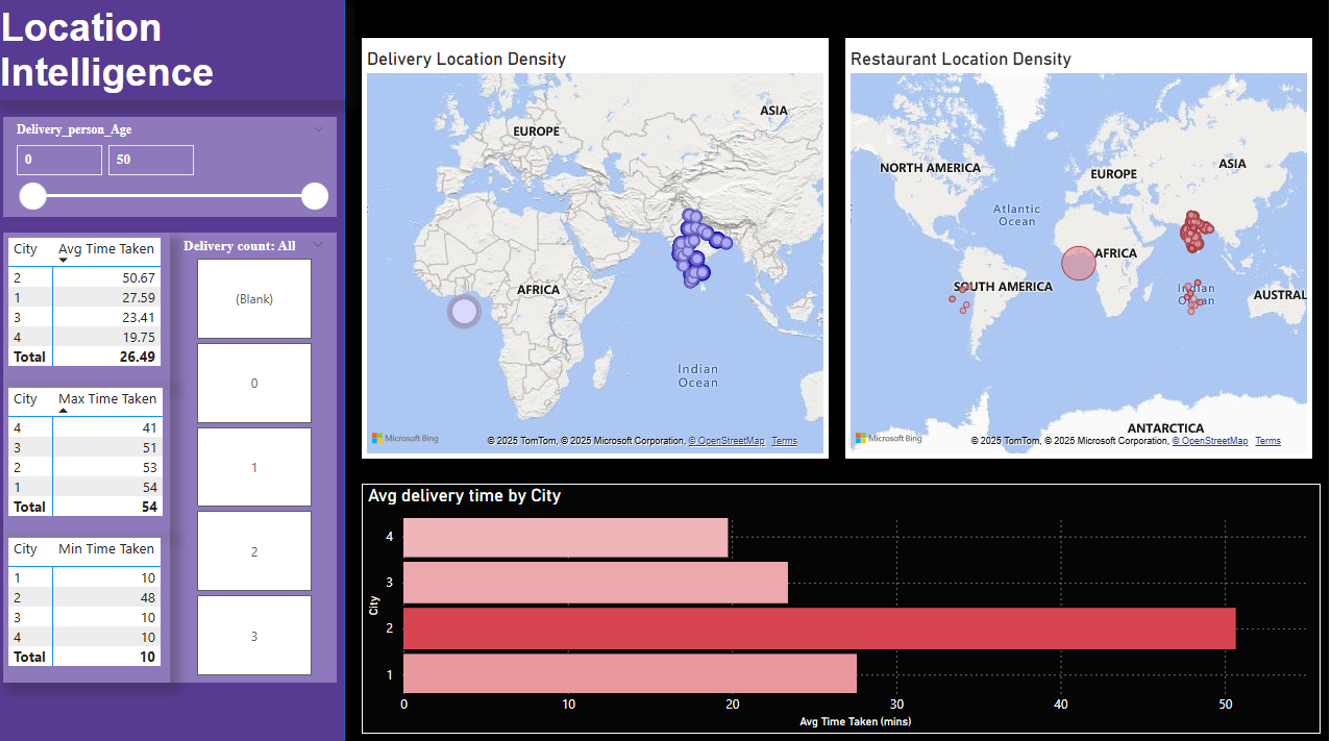

The page's visual inventory and layout, read from the dashboard file:
{"tool":"powerbi","page":{"name":"Location Intelligence","canvas":[1280,720],"ordinal":3},"visuals":[{"type":"shape","box":[0,0,336,720],"z":0},{"type":"textbox","box":[0,8,336,96],"z":1000},{"type":"slicer","fields":{"Values":["working data ori.multiple_deliveries"]},"box":[168,231.4,160,432],"z":11000},{"type":"slicer","fields":{"Values":["working data ori.Delivery_person_Age"]},"box":[8,120,320,96],"z":12000},{"type":"pivotTable","fields":{"Values":["Avg(working data ori.Time_taken(min))"],"Rows":["working data ori.City"]},"box":[8,231.4,160,144],"z":13000},{"type":"pivotTable","fields":{"Values":["Max(working data ori.Time_taken(min))"],"Rows":["working data ori.City"]},"box":[8,375.4,160,144],"z":15000},{"type":"pivotTable","fields":{"Values":["Min(working data ori.Time_taken(min))"],"Rows":["working data ori.City"]},"box":[8,519.4,160,144],"z":16000},{"type":"barChart","title":"Avg delivery time by City","fields":{"Y":["Avg(working data ori.Time_taken(min))"],"Category":["working data ori.City"]},"box":[352,472,920,240],"z":17000},{"type":"map","title":"Delivery Location Density","fields":{"X":["working data ori.Delivery_location_longitude"],"Y":["working data ori.Delivery_location_latitude"],"Size":["CountNonNull(working data ori.ID)"]},"box":[352,16,448,432],"z":18000},{"type":"map","title":"Restaurant Location Density","fields":{"Y":["working data ori.Restaurant_latitude"],"X":["working data ori.Restaurant_longitude"],"Size":["CountNonNull(working data ori.ID)"]},"box":[816,16,448,432],"z":18001}]}

Visuals, with their boxes in screenshot pixels (x1, y1, x2, y2), scaled from the page's 1280x720 canvas onto the 1329x741 screenshot:
shape: {"x1": 0, "y1": 0, "x2": 349, "y2": 740}
textbox: {"x1": 0, "y1": 8, "x2": 349, "y2": 107}
slicer - working data ori.multiple_deliveries: {"x1": 174, "y1": 238, "x2": 341, "y2": 683}
slicer - working data ori.Delivery_person_Age: {"x1": 8, "y1": 123, "x2": 341, "y2": 222}
pivotTable - Avg(working data ori.Time_taken(min)) x working data ori.City: {"x1": 8, "y1": 238, "x2": 174, "y2": 386}
pivotTable - Max(working data ori.Time_taken(min)) x working data ori.City: {"x1": 8, "y1": 386, "x2": 174, "y2": 535}
pivotTable - Min(working data ori.Time_taken(min)) x working data ori.City: {"x1": 8, "y1": 535, "x2": 174, "y2": 683}
"Avg delivery time by City" barChart: {"x1": 365, "y1": 486, "x2": 1321, "y2": 733}
"Delivery Location Density" map: {"x1": 365, "y1": 16, "x2": 831, "y2": 461}
"Restaurant Location Density" map: {"x1": 847, "y1": 16, "x2": 1312, "y2": 461}
